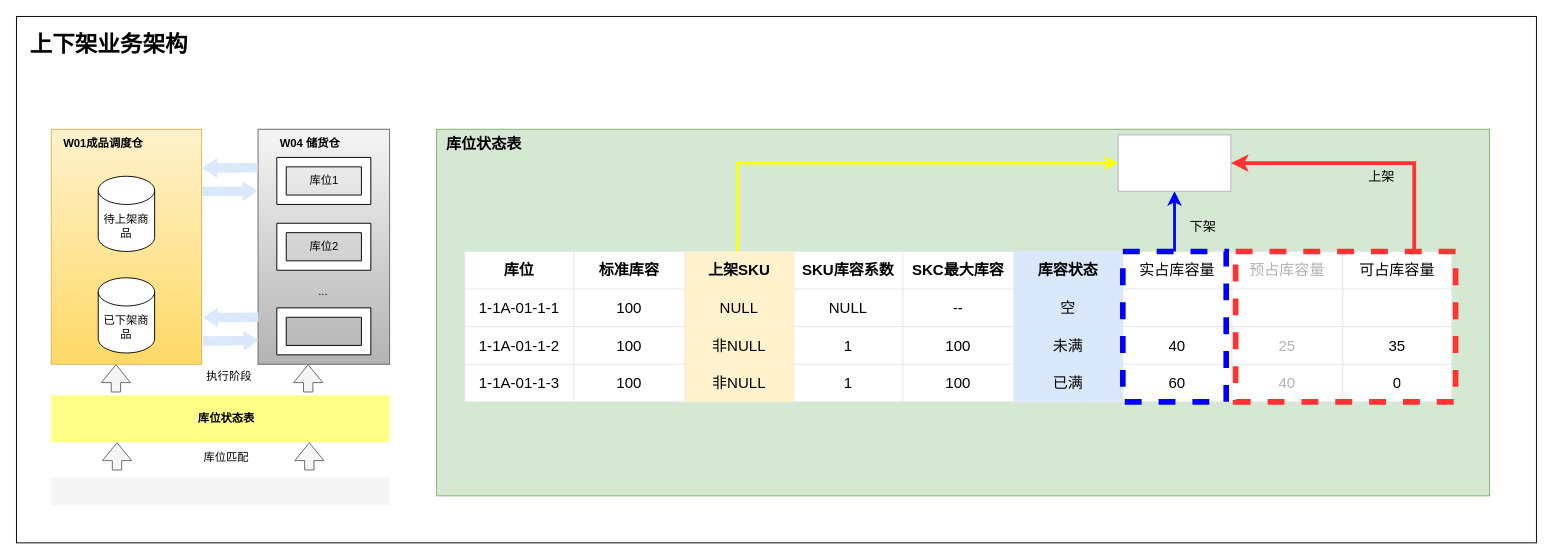
Some shapes in this 1553 by 559 pixel diagram are drawn without their labels. The shapes that lost their labels are listed below. From the top down, each one's centre as x and y in pixels, then its label:
[1174,162]: 库位匹配算法
[323,331]: 库位n
[220,491]: 上下架指令
